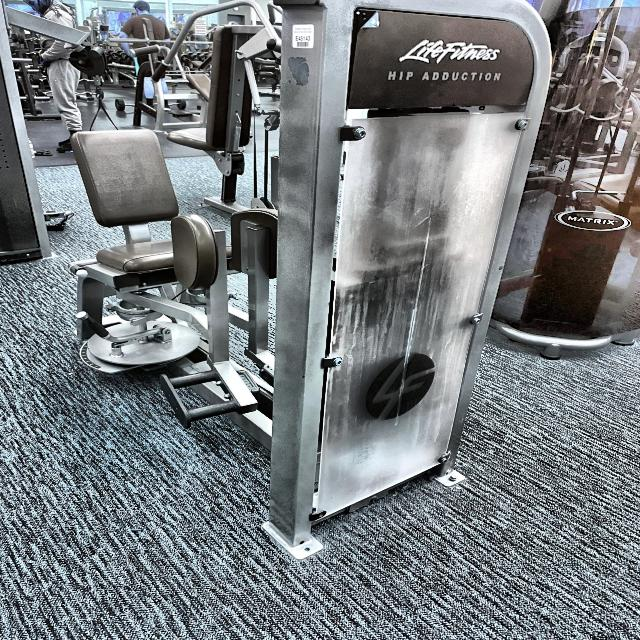hip_adduction_machine: (68, 112, 225, 434), (383, 58, 510, 108)
